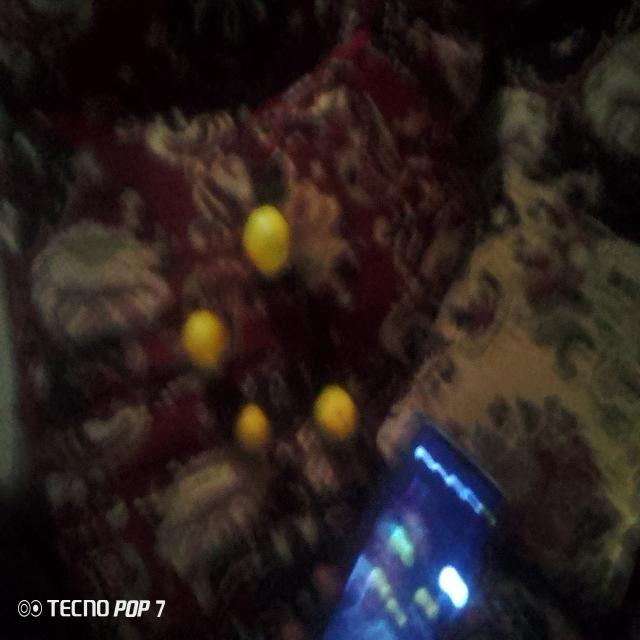Ripe orange: (232, 204, 297, 278), (182, 311, 232, 377), (228, 406, 280, 462), (313, 387, 362, 446)
